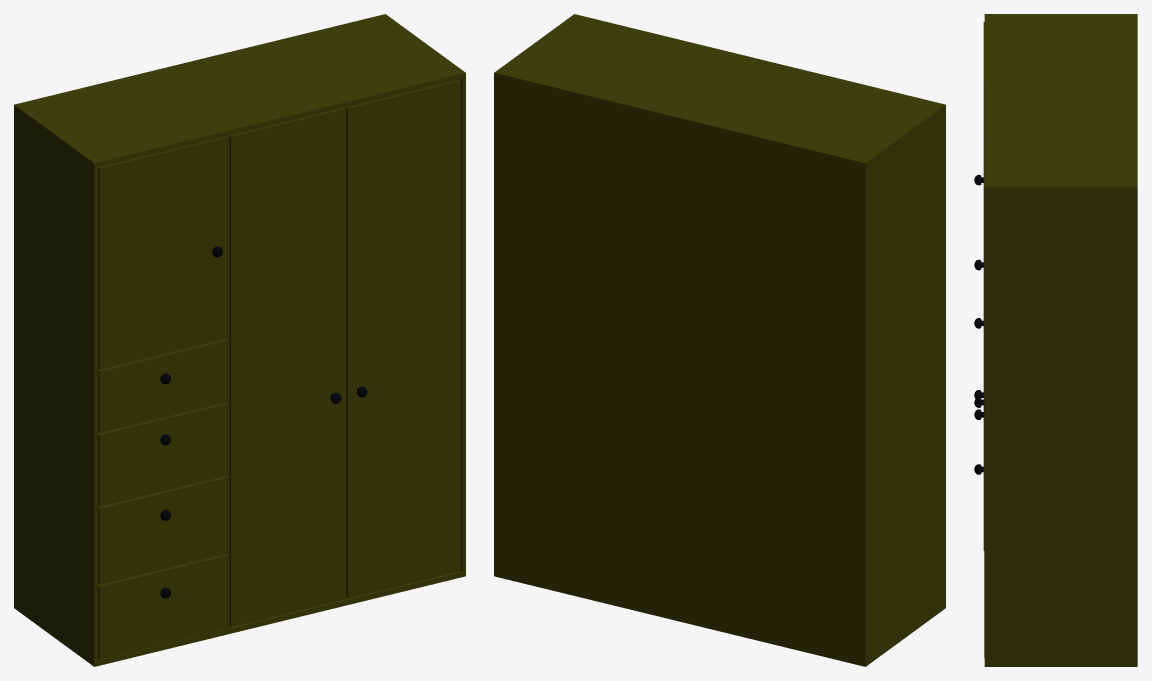
File: wardrobe.fbx
The picture shows the model from 3 angles, left to right: view 1: azimuth 30°, elevation 25°; view 2: azimuth 150°, elevation 25°; view 3: azimuth 270°, elevation 25°; orthographic projection. The views are drawn at different scales.
Visible parts, largest first — view 1: polySurface16; view 2: polySurface16; view 3: polySurface16.
Boxes of the visible parts, x1=… form: polySurface16: x1=14, y1=14, x2=465, y2=666; polySurface16: x1=494, y1=14, x2=945, y2=666; polySurface16: x1=983, y1=14, x2=1137, y2=666.
Bounding box in the file's own units: 1.47 × 1.91 × 0.5874.
